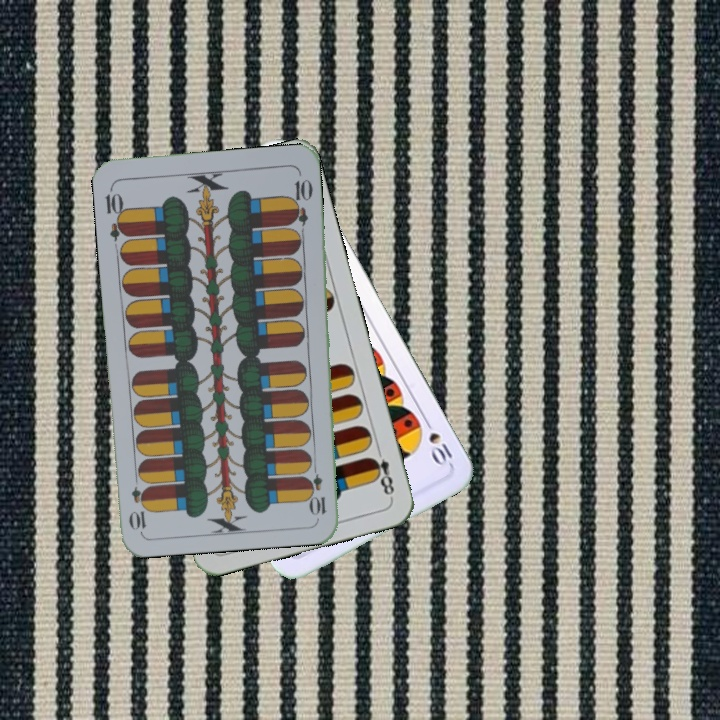E10: (101, 183, 130, 242), (307, 459, 329, 518)
E8: (366, 443, 397, 501)
S10: (419, 413, 455, 469)
